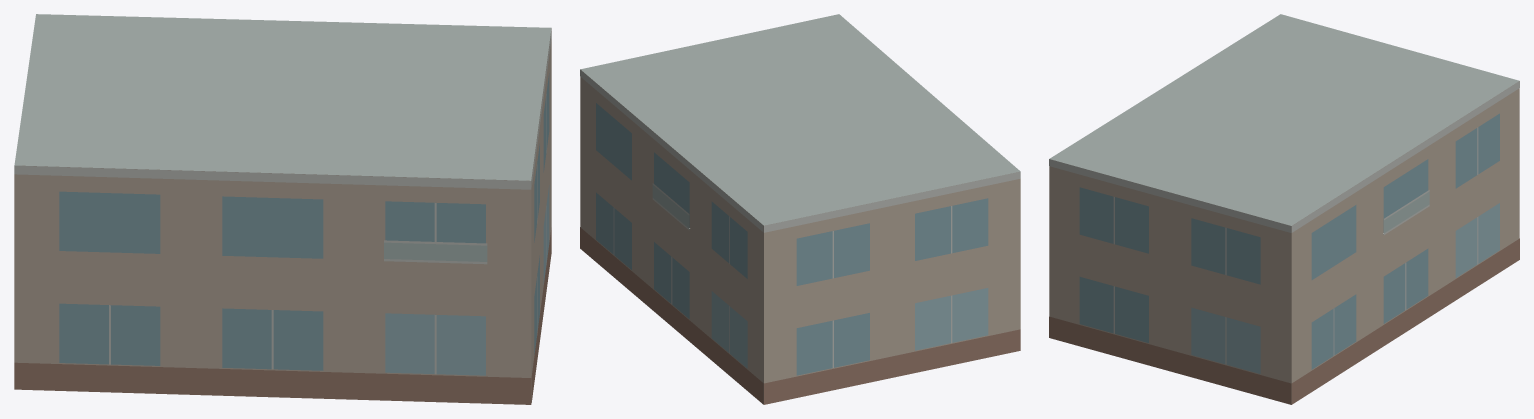
The model's file is survey-upis-32734294.glb.
3 views of the same model, side by side, from view 1: azimuth 30°, elevation 25°; view 2: azimuth 150°, elevation 25°; view 3: azimuth 270°, elevation 25° (orthographic). The views are drawn at different scales.
Parts seen in each view (by area): view 1: survey-upis-32734294.tmp; view 2: survey-upis-32734294.tmp; view 3: survey-upis-32734294.tmp.
Boxes of the visible parts, x1=… form: survey-upis-32734294.tmp: x1=14, y1=14, x2=551, y2=404; survey-upis-32734294.tmp: x1=580, y1=14, x2=1020, y2=404; survey-upis-32734294.tmp: x1=1049, y1=14, x2=1519, y2=404.
Bounding box in the file's own units: 15.51 × 6.1 × 14.55.
